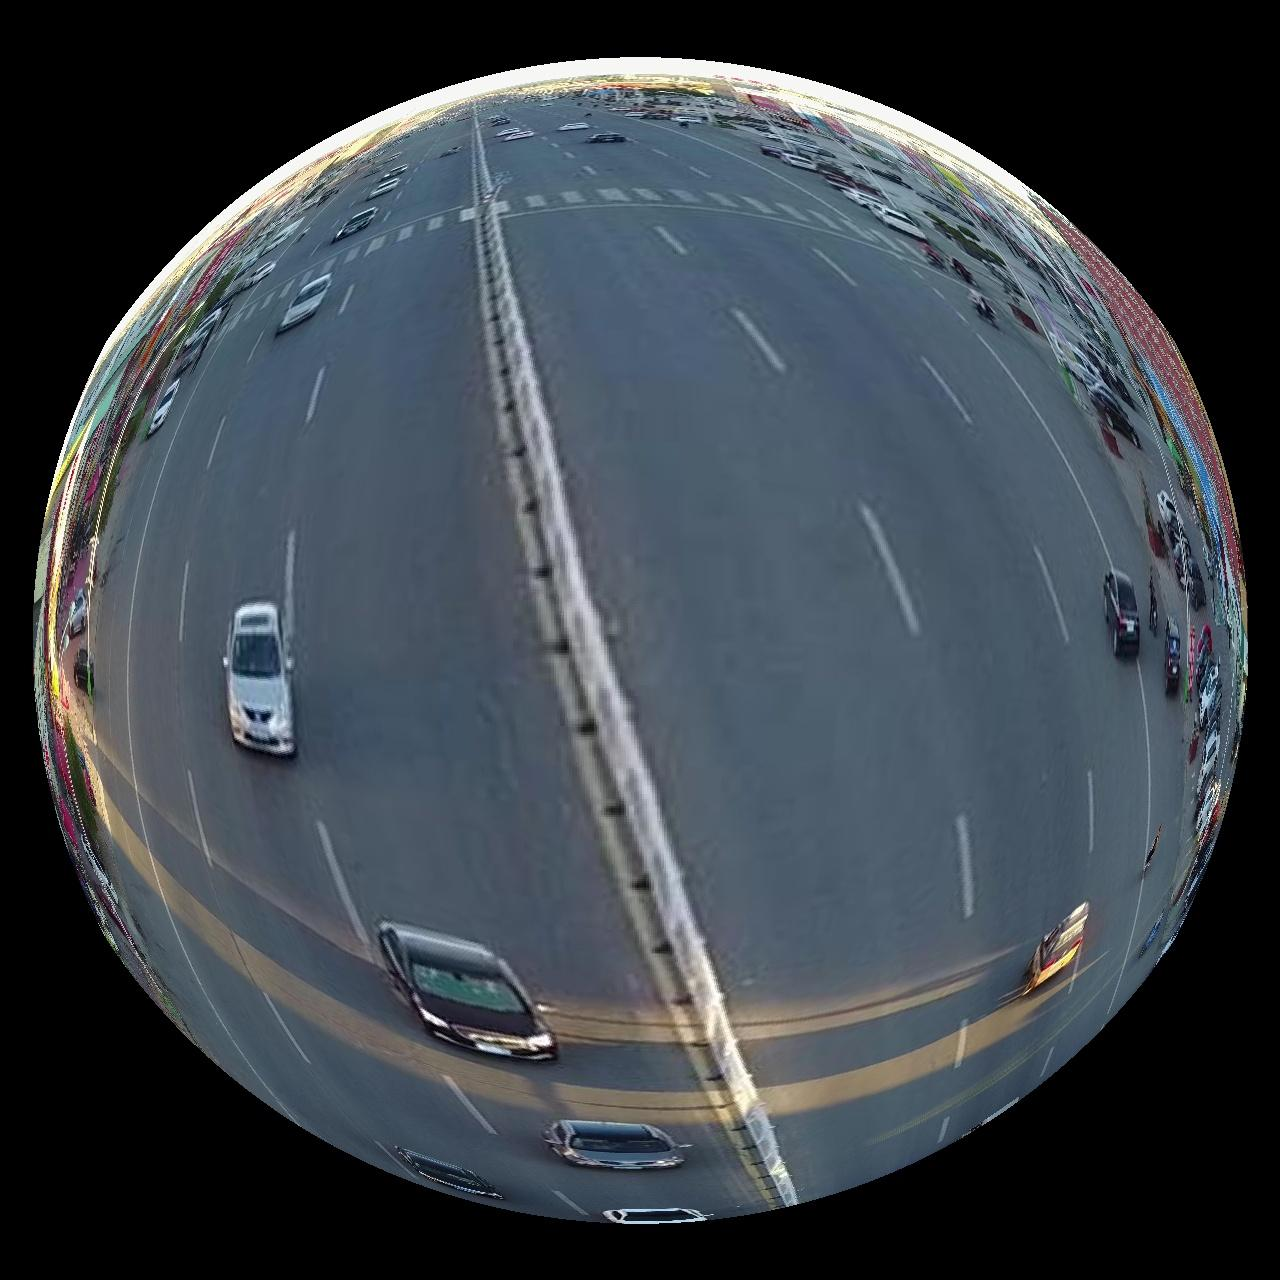building: (1032, 195, 1242, 590)
cars: (377, 922, 557, 1062), (222, 602, 297, 758), (543, 1122, 689, 1172), (1023, 903, 1092, 995), (394, 1151, 504, 1203), (1105, 568, 1143, 659), (275, 273, 331, 332), (602, 1208, 712, 1228), (144, 377, 178, 437), (331, 205, 377, 241), (586, 130, 627, 143)
